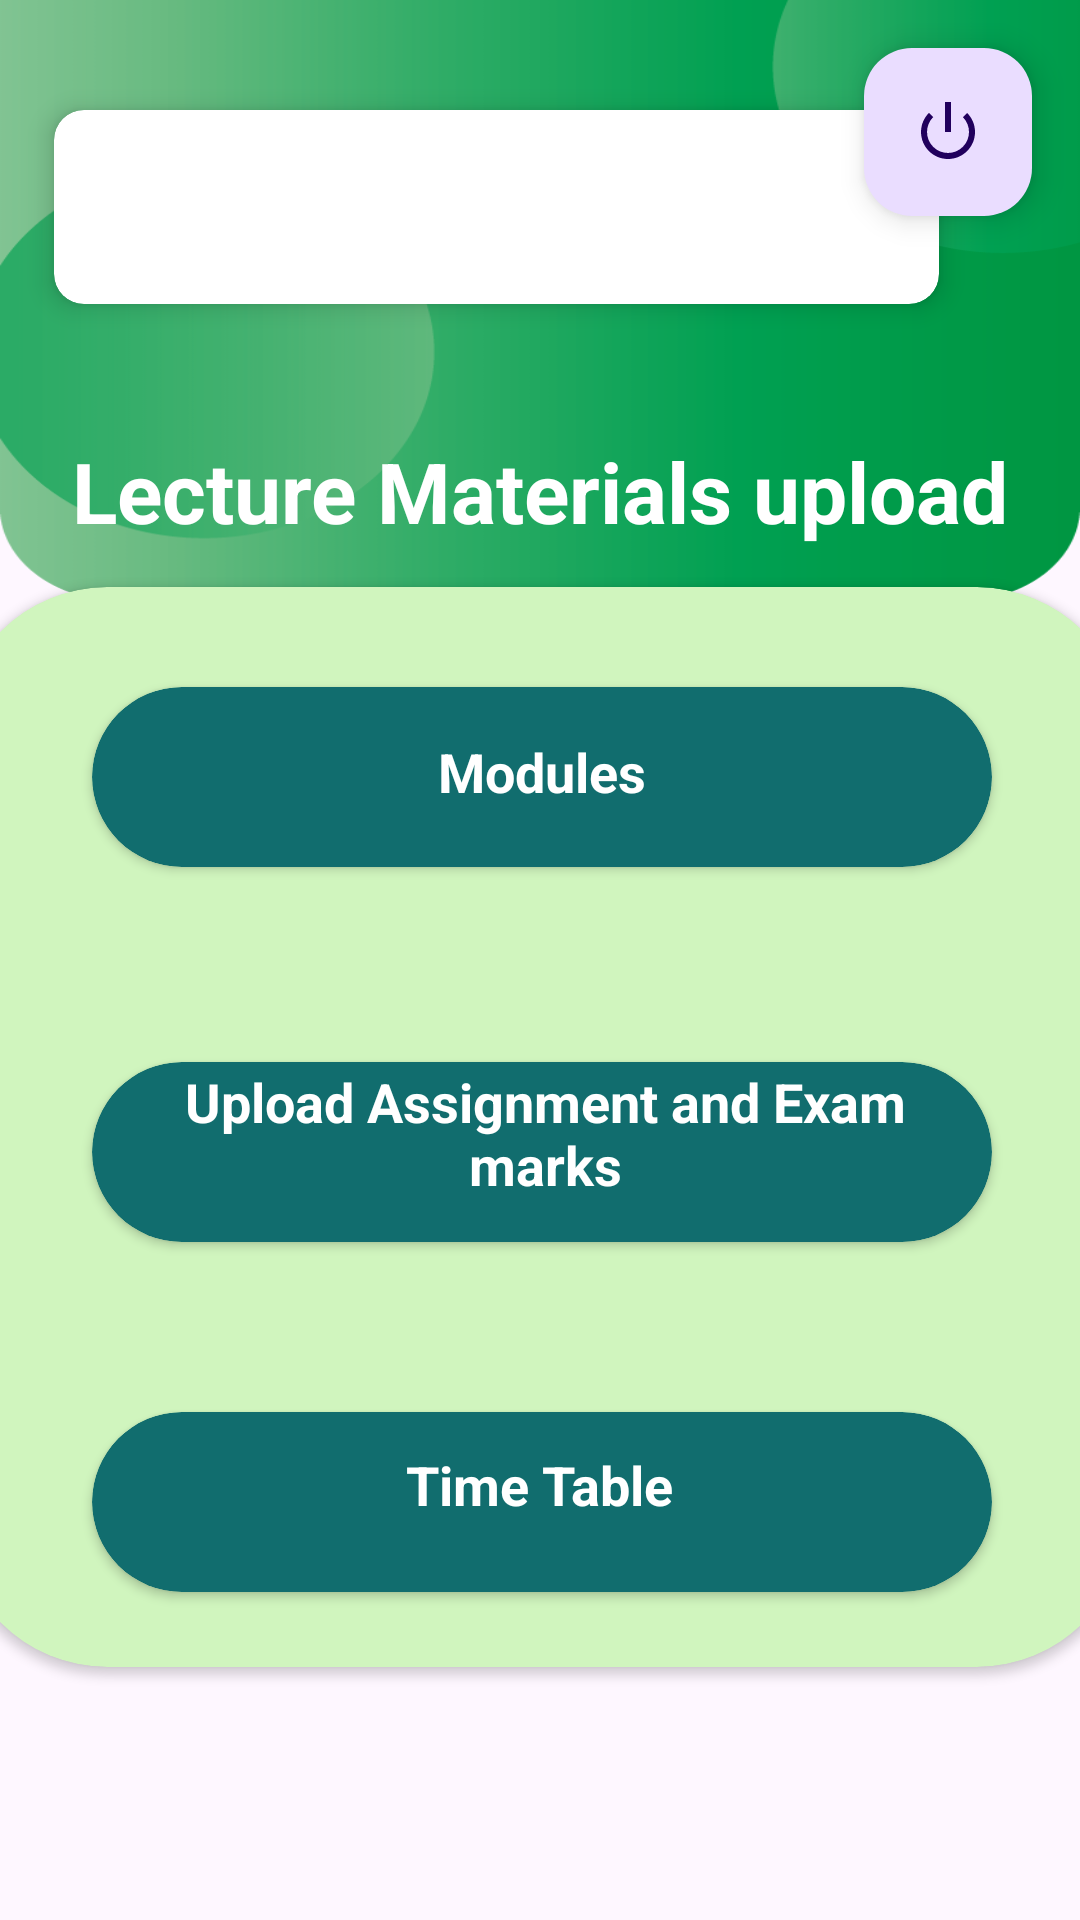

Named icons in this screenshot (1080px×1920px) and their centers, point (x, y):
lock power off: point (948, 132)
